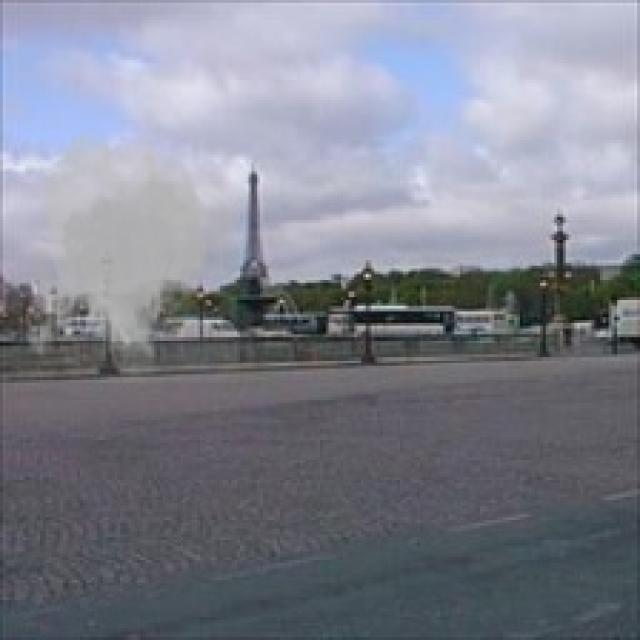Smoke: (17, 126, 240, 383)
